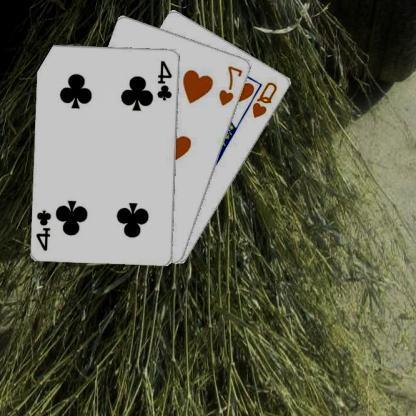4C: (35, 207, 55, 252), (157, 58, 175, 101)
7H: (218, 62, 246, 108)
QH: (251, 79, 281, 119)
